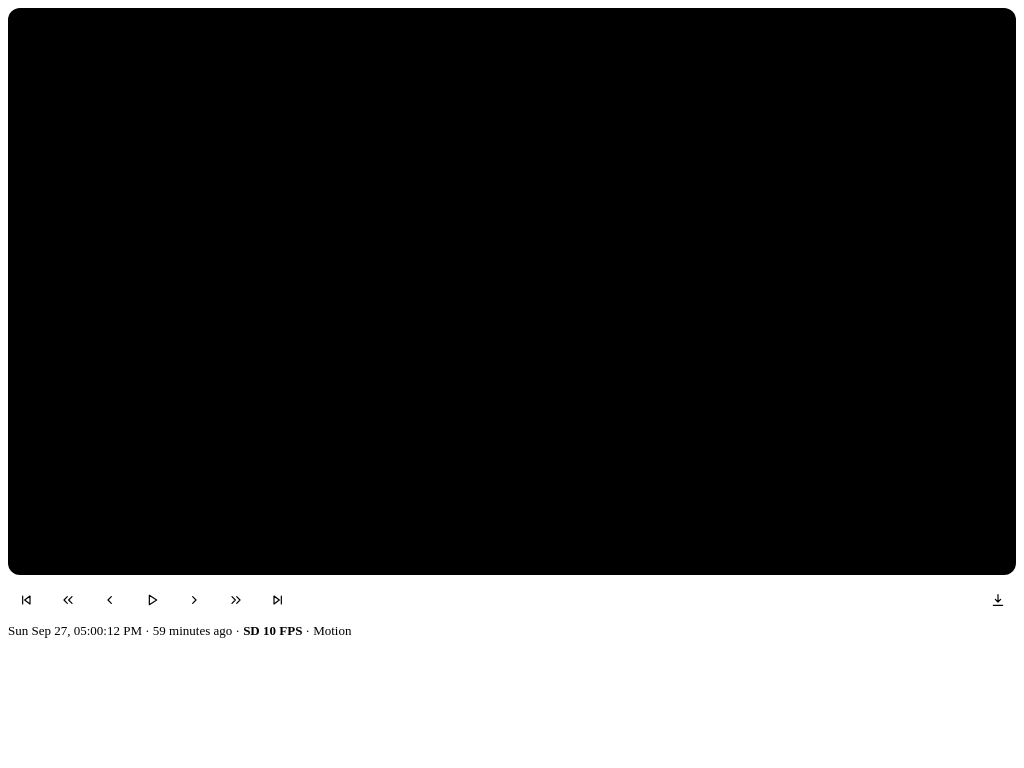
Test: StripPlayer › opens the save dialog from its download button instead of downloading
Click the button named "Download this clip": (998, 600) [980, 583, 1016, 617]
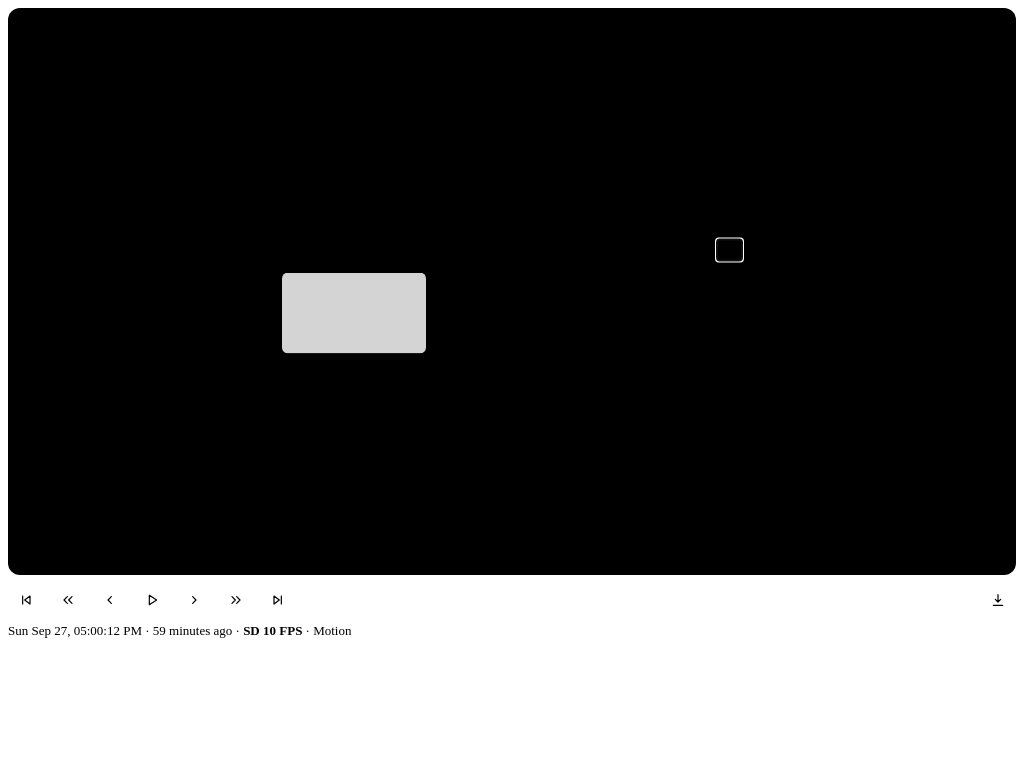
Expected: the dialog with test id "compose-dialog" is shown, [264, 222, 760, 546]
